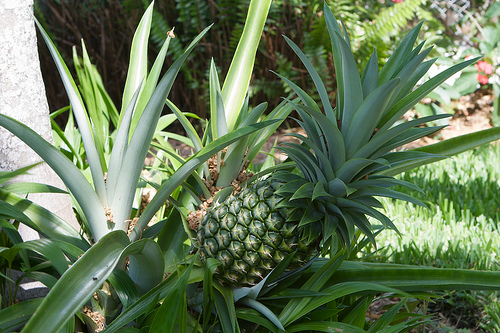pineapple: (195, 0, 452, 286)
